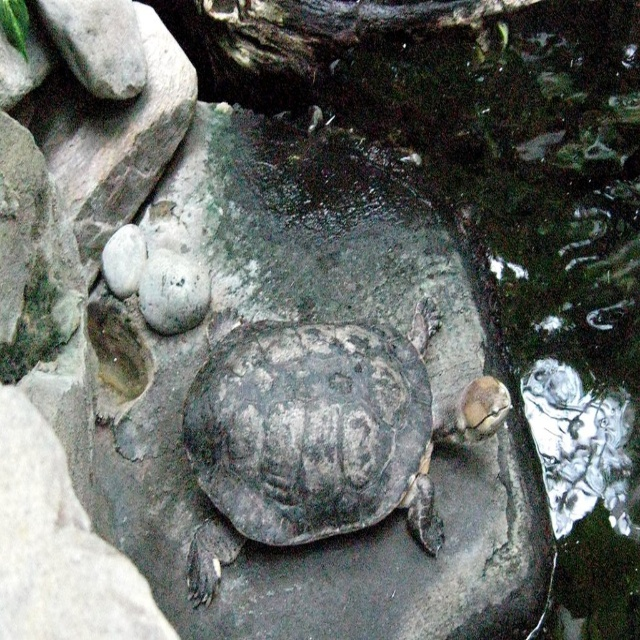Sea turtle: (177, 292, 513, 610)
